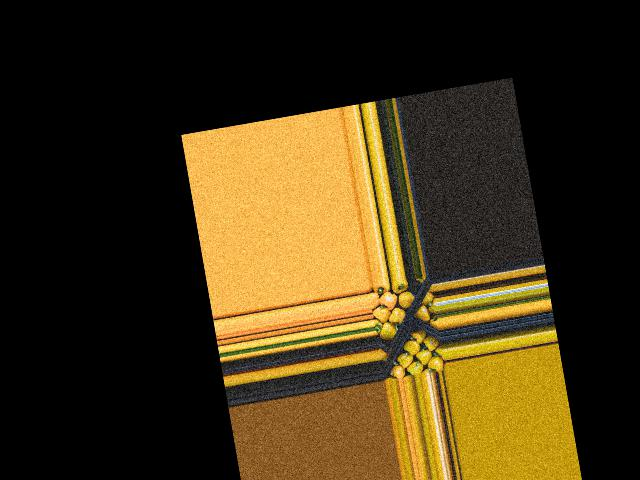bell_pepper: (427, 351, 447, 372)
